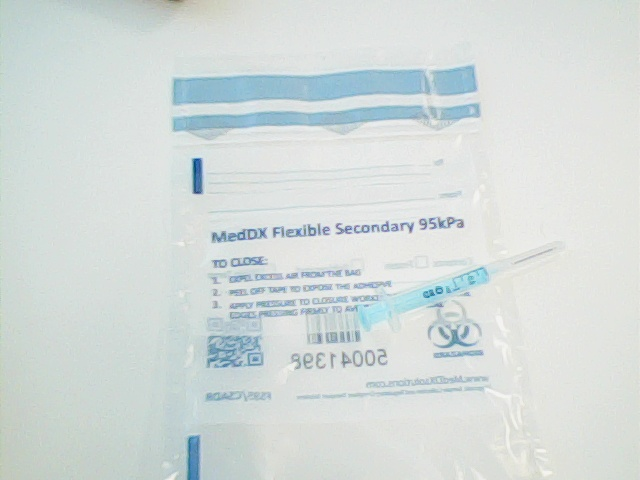syringe: (352, 226, 575, 340)
